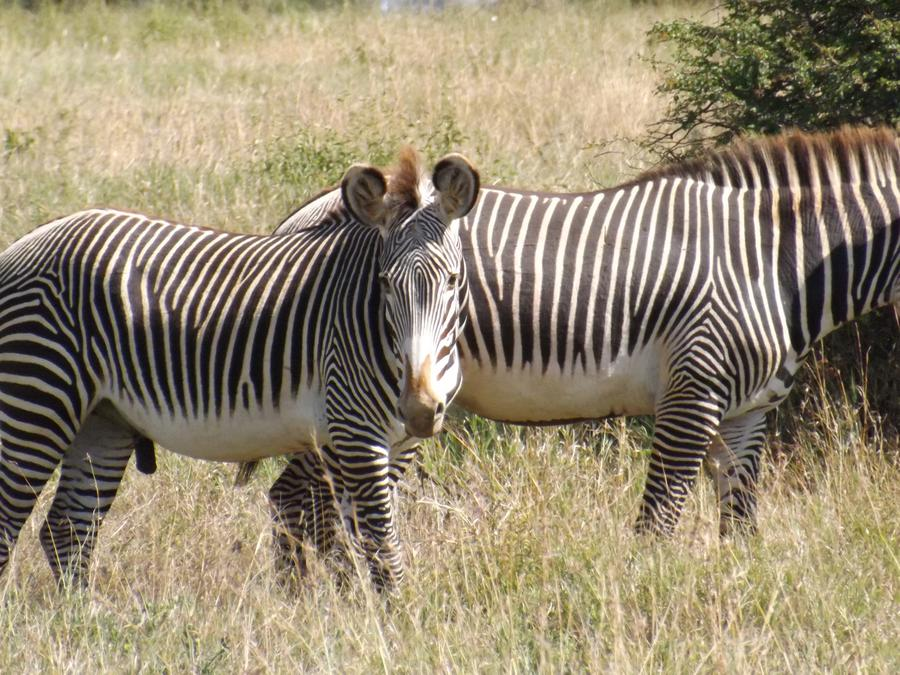zebra_grevys: (466, 150, 762, 407)
